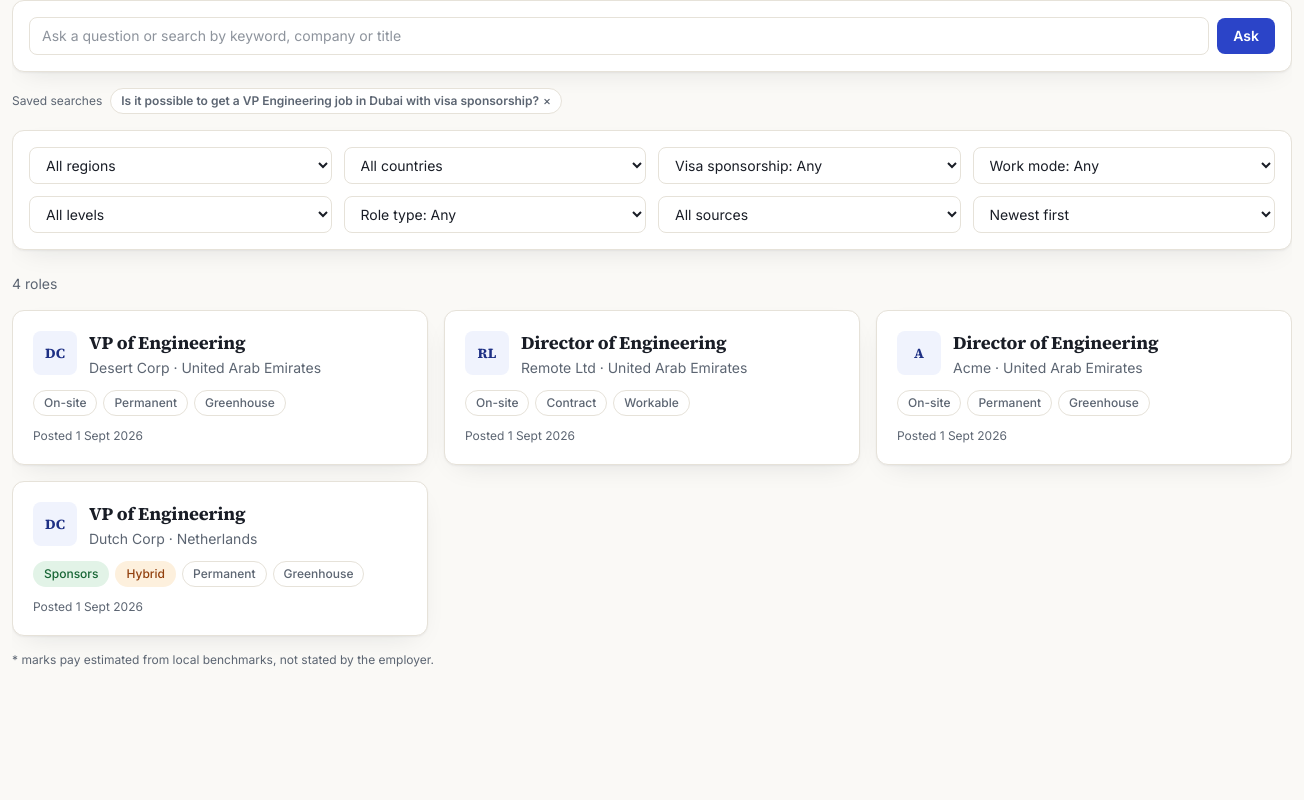
Test case: JobsBrowser ask and saved searches › clears the answer panel when filters change manually
Type "Does Acme have a director of engineering role?" into the field with placeholder "Ask a question or search by keyword, company or title". click: point(619, 36)
box: [29,17,1209,55]
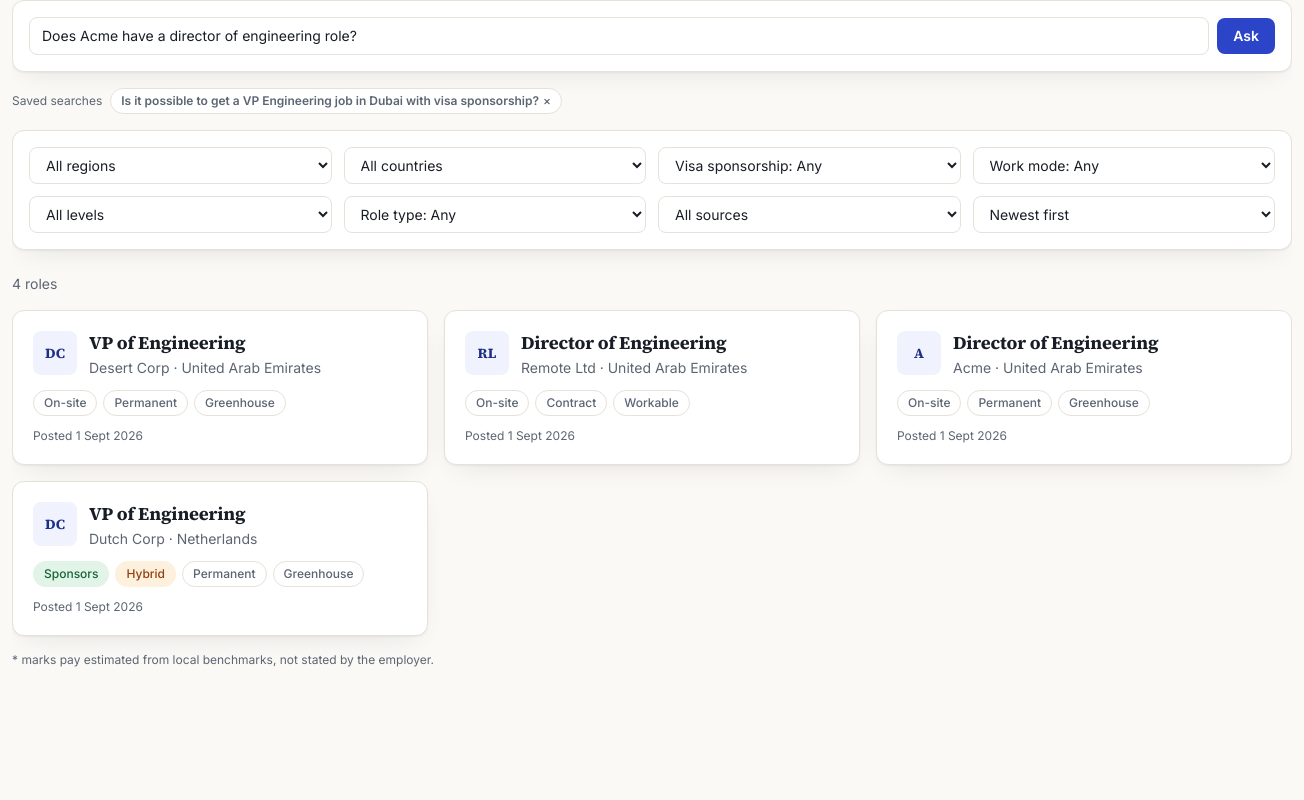
Submit the form, box [12,0,1292,72]
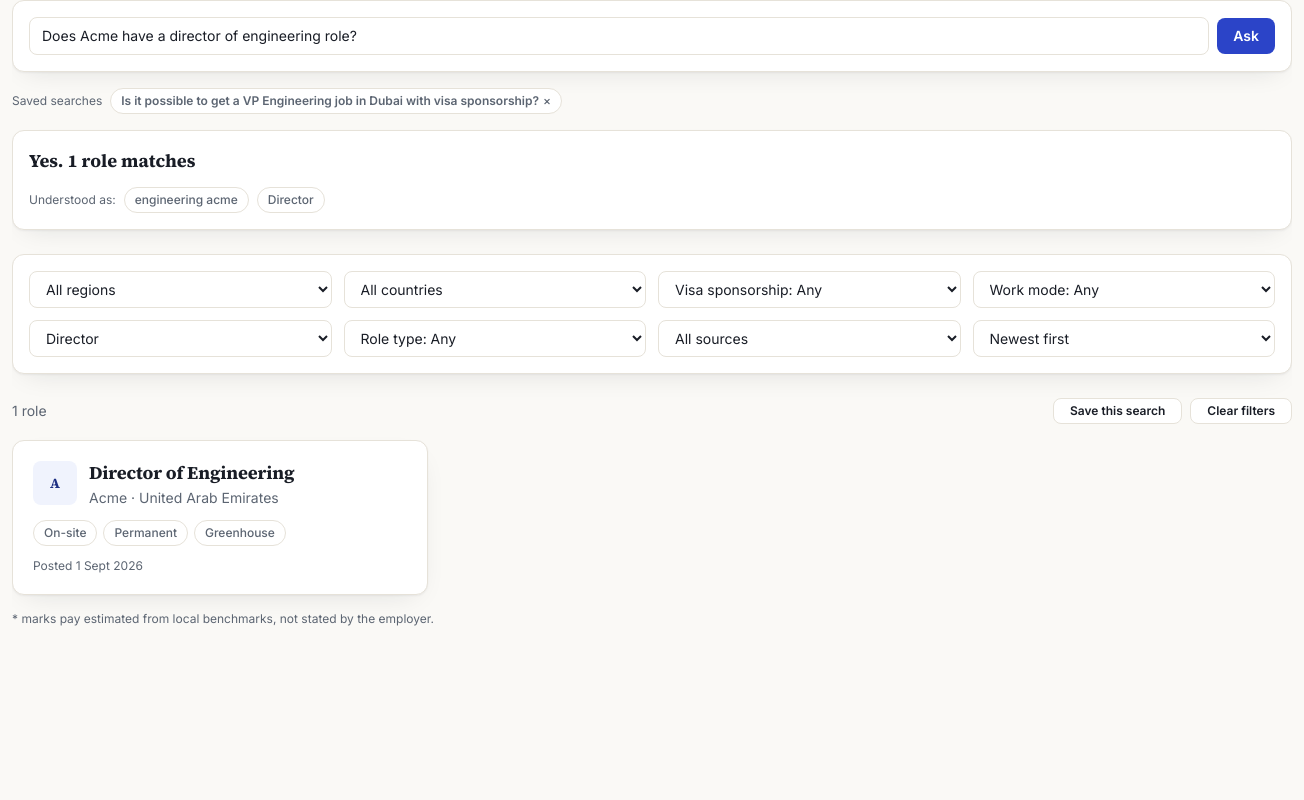
Check: the text "Yes. 1 role matches" is shown, box [29,148,195,173]
Select "Europe" in the 1st dropdown named "Region". click: point(180, 290)
box: [29,271,332,308]
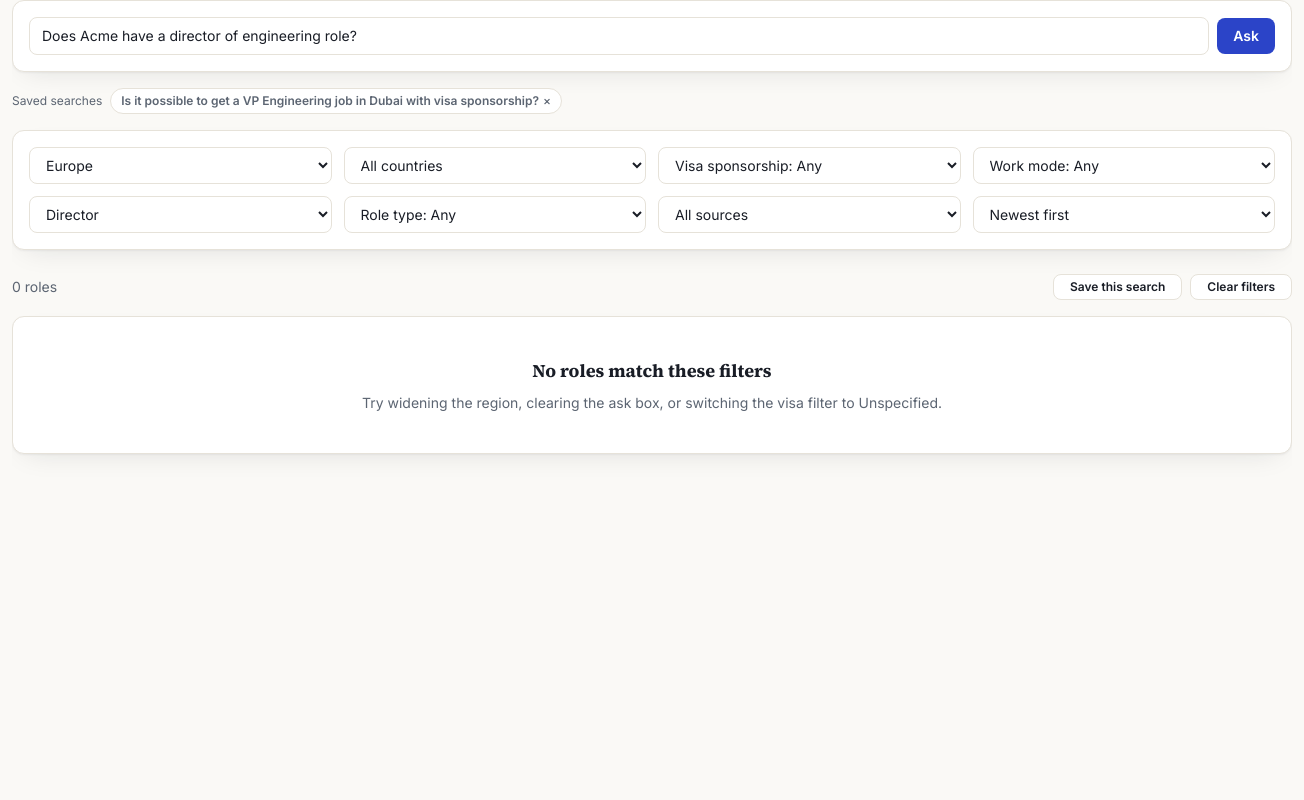
Check: the text "Yes. 1 role matches" is gone
